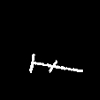double_crochet: (29, 54, 82, 72)
